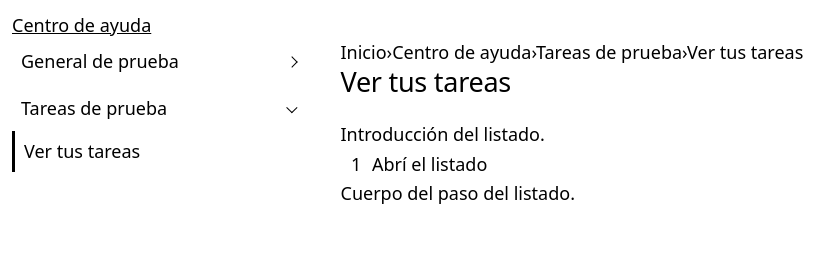
Test: BarraLateralAyuda › solo lista artículos visibles
Check: the link "Ver tus tareas" is shown, box [12,131,309,172]
What coordinates should you click on to do the following:
click the button "General de prueba"
I would click on:
 (160, 62)
Its box is [12,39,309,84].
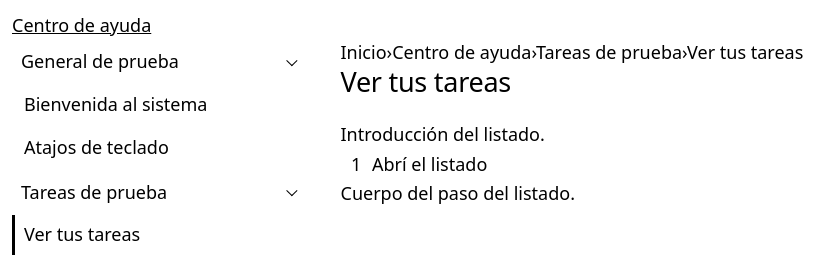
Check: the link "Bienvenida al sistema" is shown, box [24,92,207,116]
